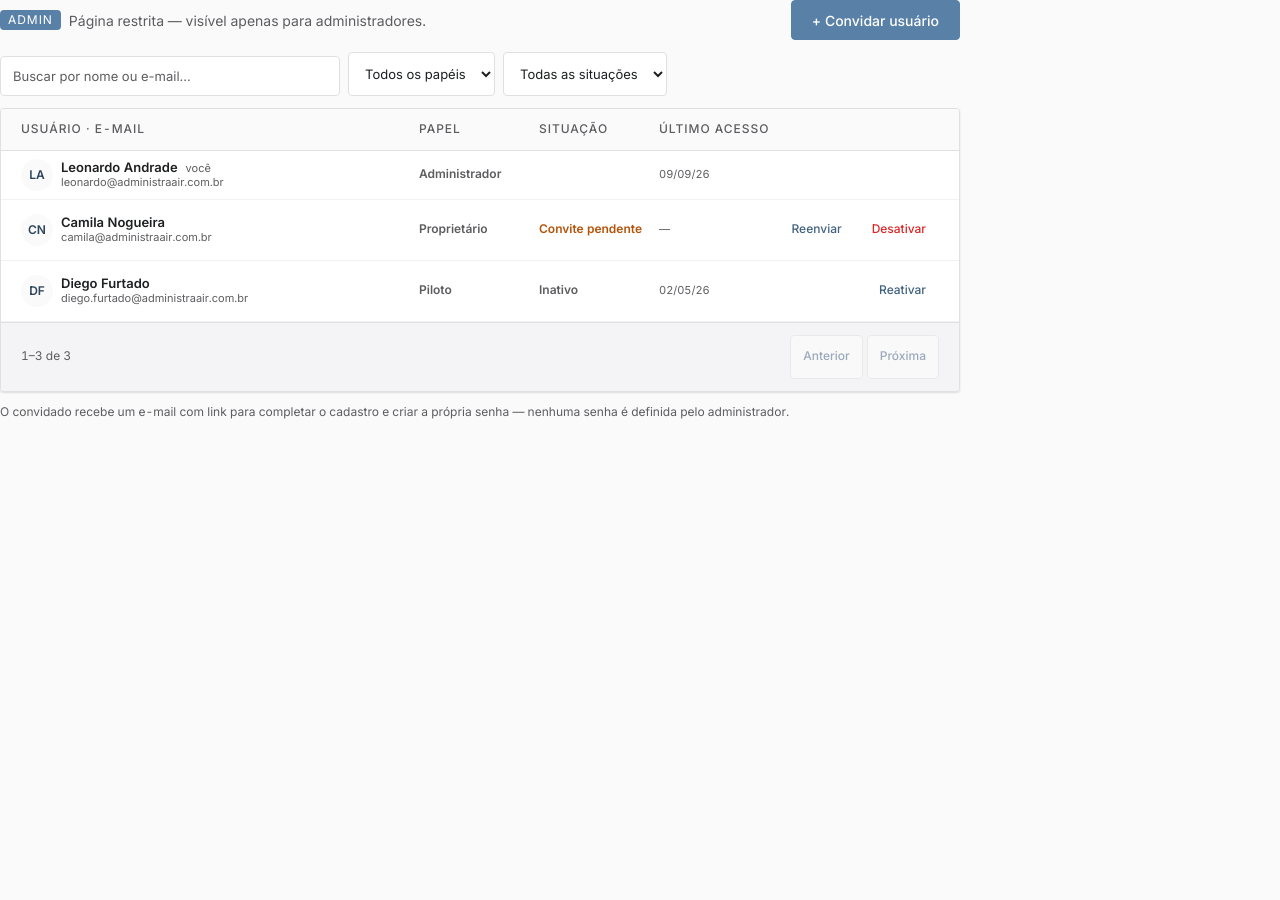
Test case: PaginaDeUsuarios › ações na linha › a recusa da desativação aparece no painel, que continua aberto
Click the button with aria-label "Desativar Camila Nogueira" at (899, 230), box 859,208 -> 939,252
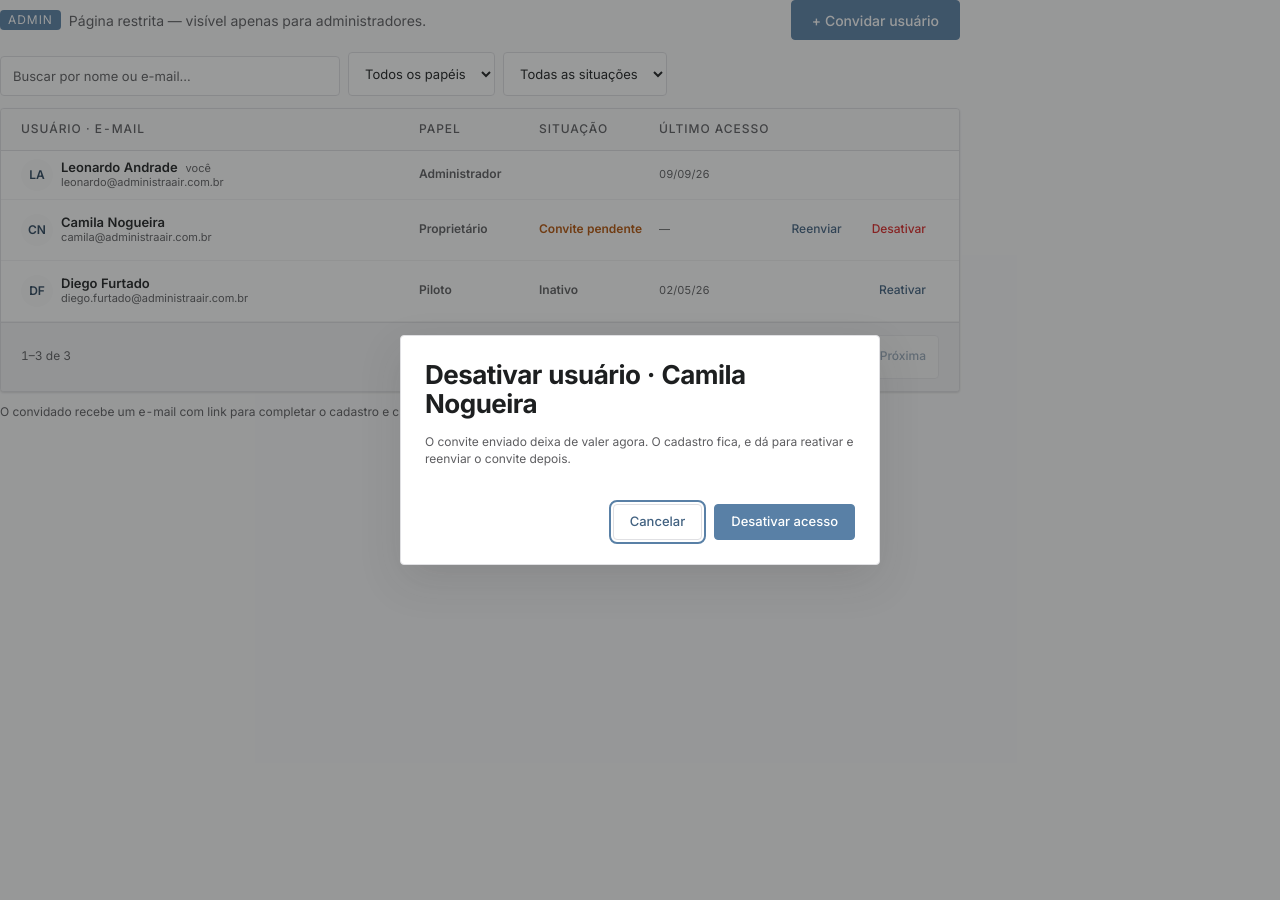
Click the button "Desativar acesso" at (785, 522), box 714,504 -> 855,540
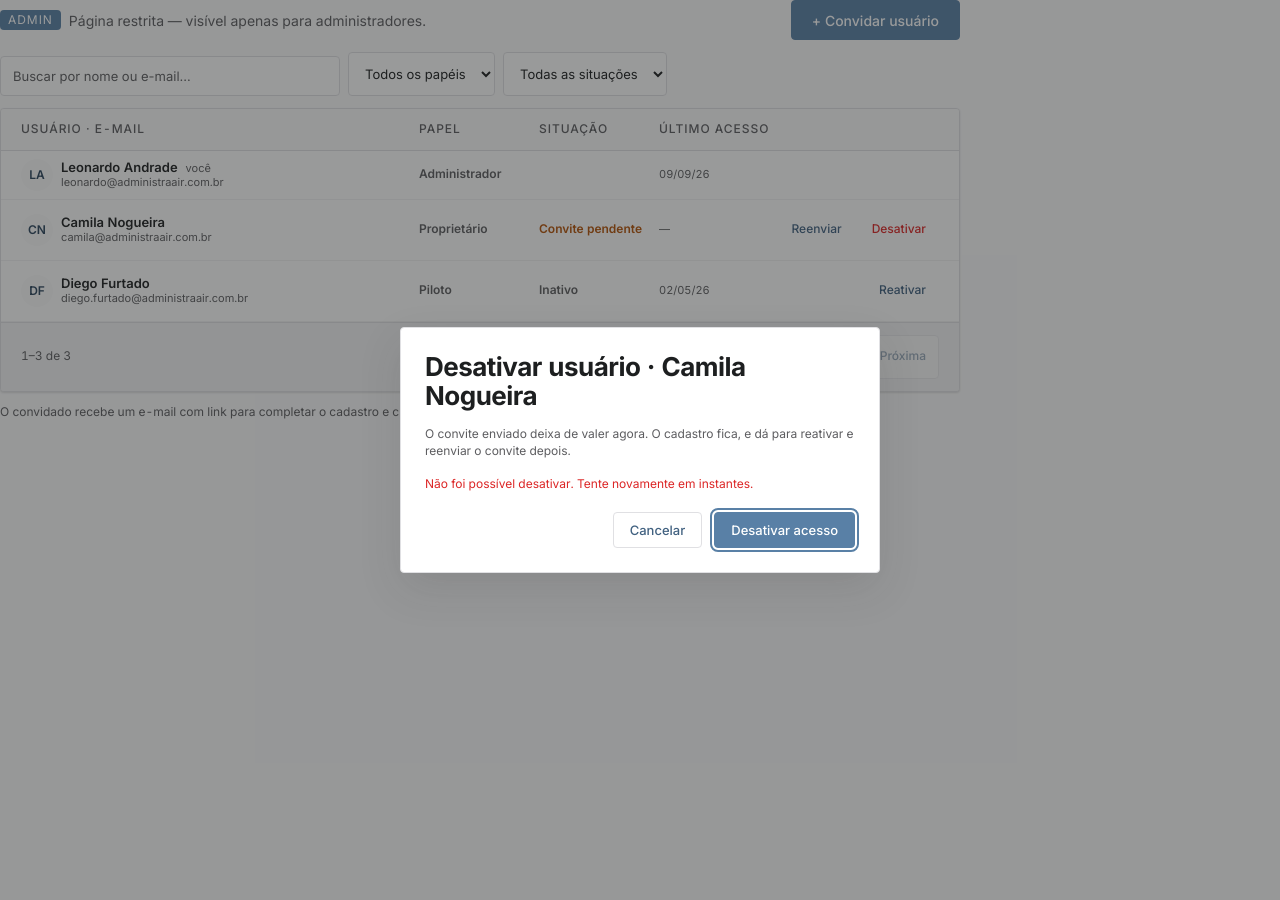
Expected: the text "Não foi possível desativar. Tente novamente em instantes." is shown, 425,476 -> 753,490
